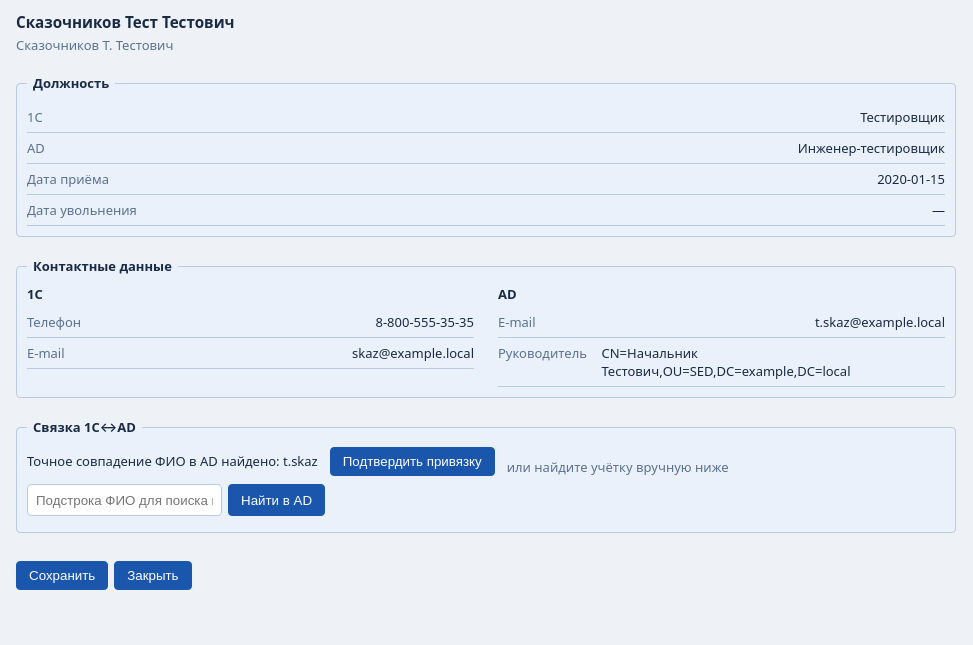
Test case: EmployeeCardView › админ подтверждает привязку по найденному совпадению одним кликом
Click the button "Подтвердить привязку" at (412, 461), box x1=330 y1=446 x2=495 y2=476
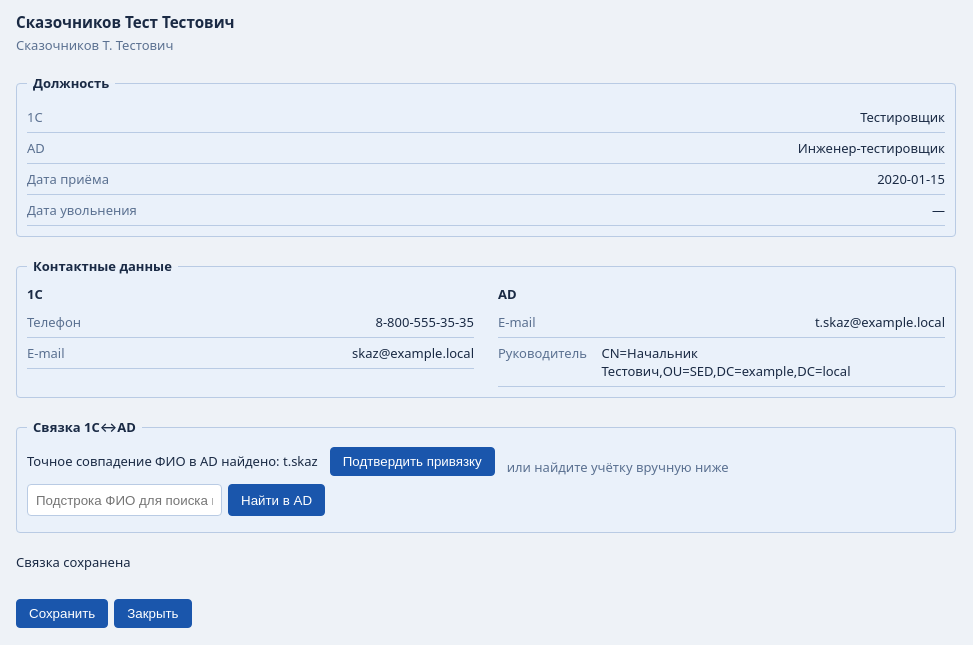
Expected: the text "Связка сохранена" is shown, x1=16 y1=553 x2=130 y2=571
